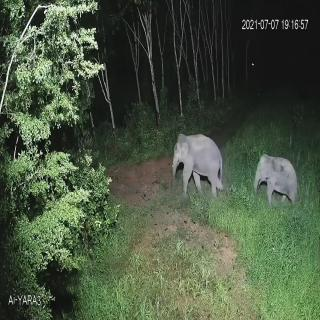Elephant: (170, 129, 225, 201), (251, 153, 302, 206)
